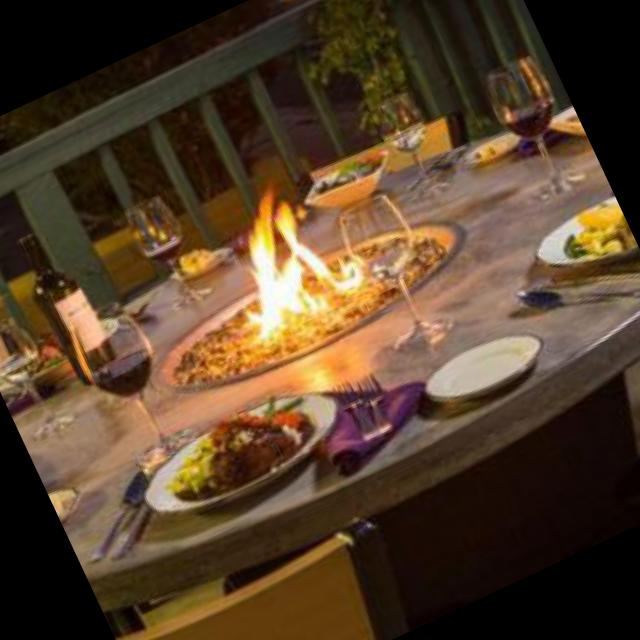fire: (189, 158, 373, 348)
